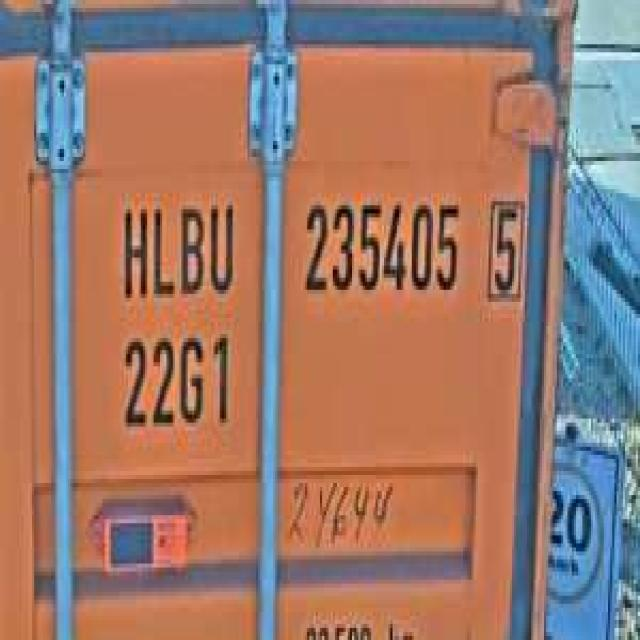dv: (482, 185, 529, 310)
owner: (117, 185, 239, 302)
serial: (296, 181, 463, 310)
size: (117, 322, 237, 439)
